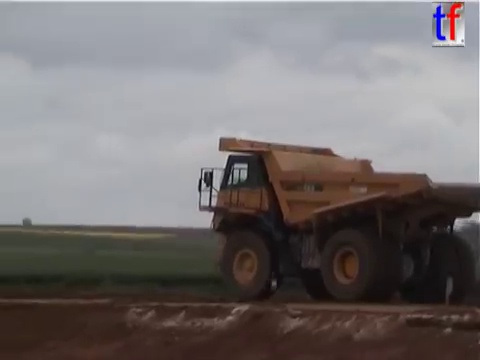truck: (195, 133, 480, 307)
